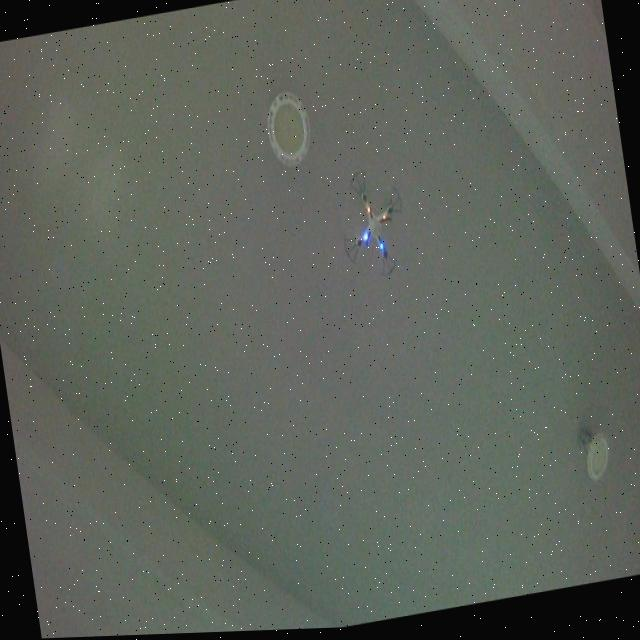drone: (332, 163, 415, 290)
